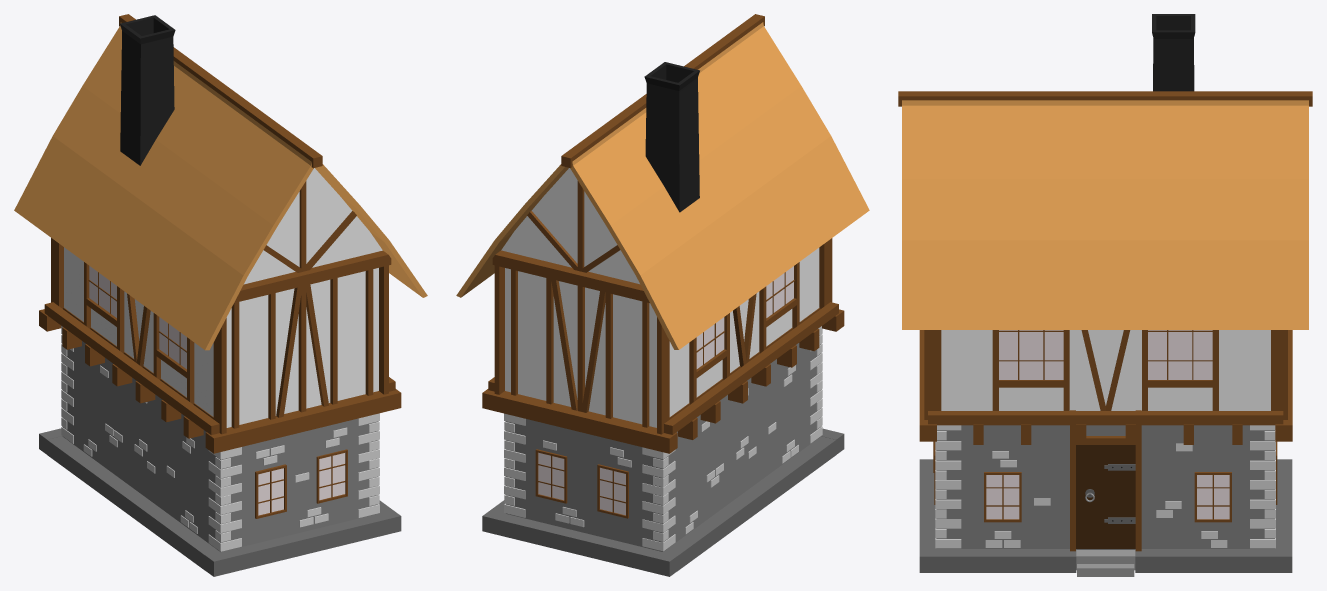
Rendered from House1.fbx.
The picture shows the model from 3 angles, left to right: view 1: azimuth 30°, elevation 25°; view 2: azimuth 150°, elevation 25°; view 3: azimuth 270°, elevation 25°; orthographic projection. The views are drawn at different scales.
Visible parts, largest first — view 1: MediavelHouse_LOD0; view 2: MediavelHouse_LOD0; view 3: MediavelHouse_LOD0.
Part boxes in pixels (<box>): MediavelHouse_LOD0: <box>14,14,427,576</box>; MediavelHouse_LOD0: <box>456,14,869,576</box>; MediavelHouse_LOD0: <box>898,14,1312,576</box>.
Size of what is drawn, in the model's own units: 664 by 1282 by 1002.
